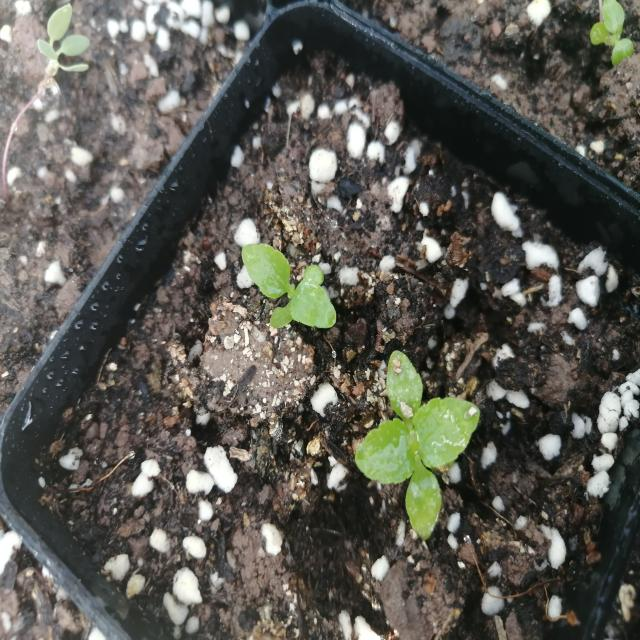billygoat_weed: (364, 336, 478, 559), (228, 218, 345, 349)
